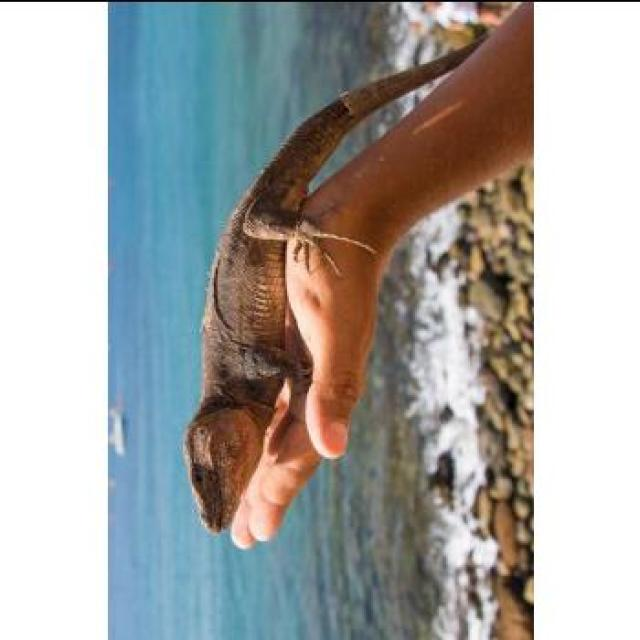Lizard: (181, 34, 472, 537)
